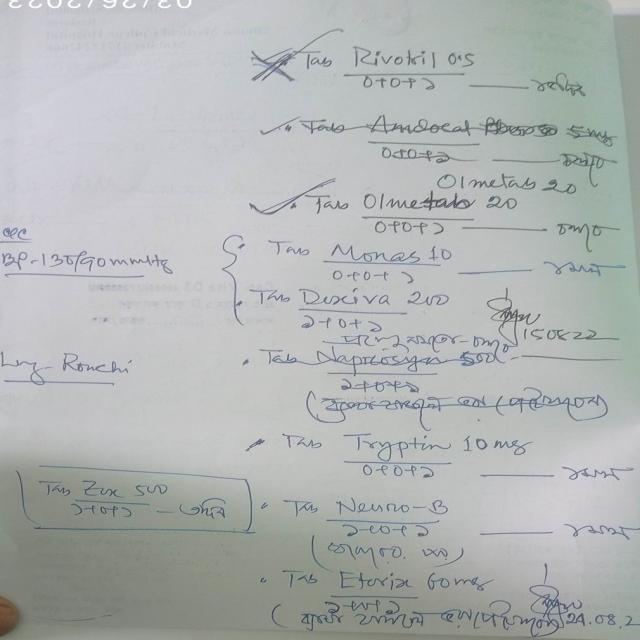Etorix: (334, 569, 414, 596)
Monas: (323, 243, 425, 266)
Neuro B: (327, 494, 455, 523)
Olme: (349, 190, 421, 214)
Rivotril: (342, 43, 441, 75)
Tryptin: (345, 430, 454, 461)
